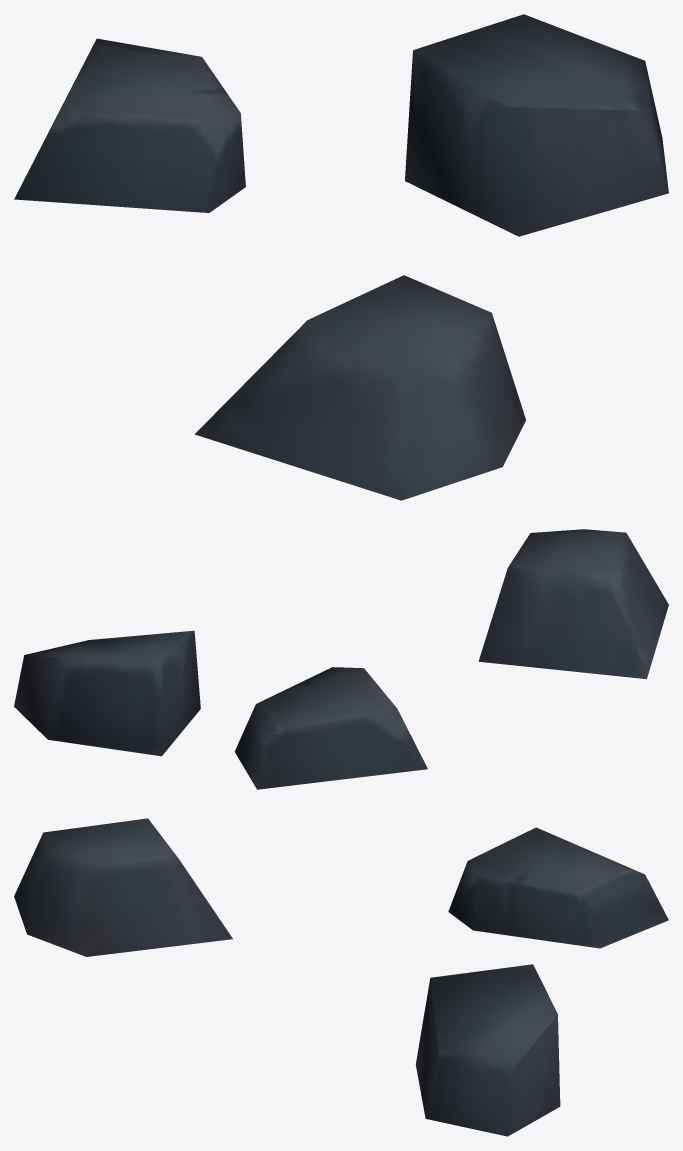
The model's file is Area_09_17.fbx.
3 renders of one model, top to bottom at view 1: azimuth 30°, elevation 25°; view 2: azimuth 150°, elevation 25°; view 3: azimuth 270°, elevation 25°, orthographic. The views are drawn at different scales.
Parts seen in each view (by area): view 1: Area_09_17; view 2: Area_09_17; view 3: Area_09_17.
Boxes of the visible parts, <box> form: Area_09_17: <box>14,14,668,500</box>; Area_09_17: <box>14,529,668,789</box>; Area_09_17: <box>14,818,668,1136</box>.
Size of the model in its own units: 250 by 52.67 by 288.
